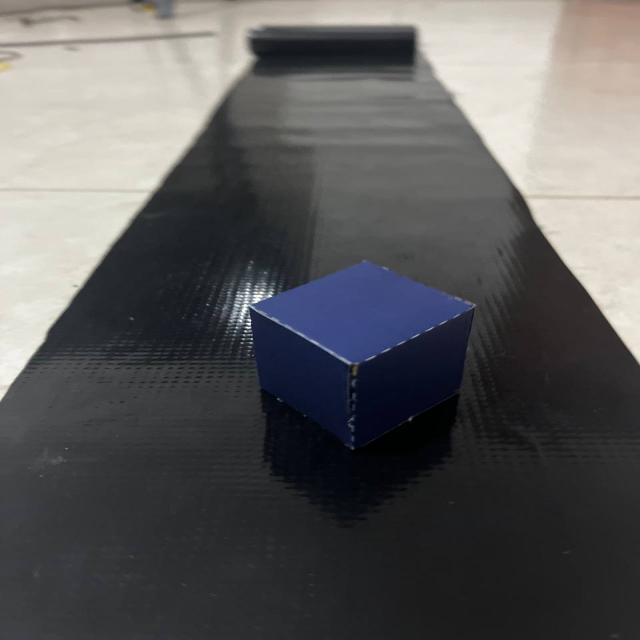Azul: (233, 242, 497, 478)
